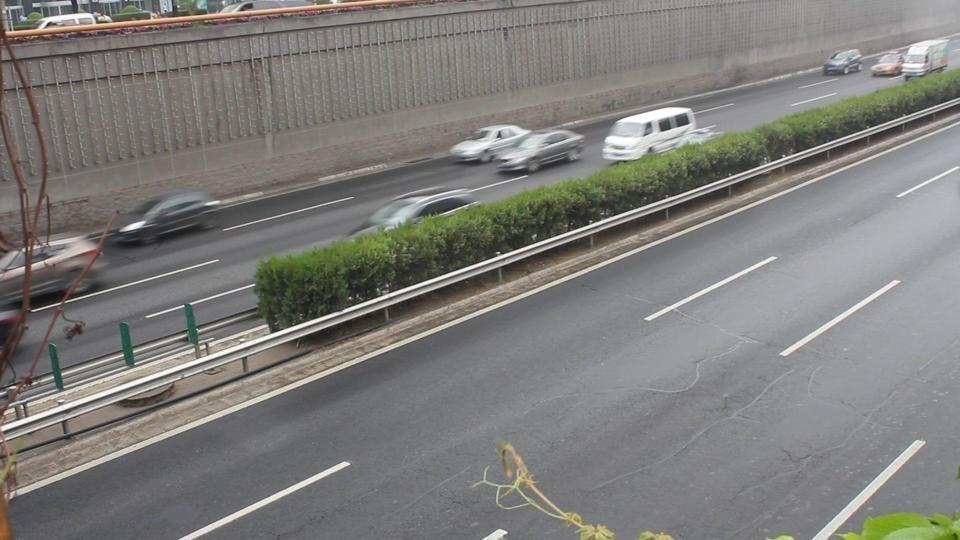car: (2, 232, 104, 308), (105, 190, 223, 247), (349, 189, 483, 239), (601, 104, 696, 164), (493, 129, 587, 177), (448, 124, 531, 164), (901, 39, 955, 80), (31, 12, 108, 29), (823, 49, 863, 76), (868, 52, 905, 78)
